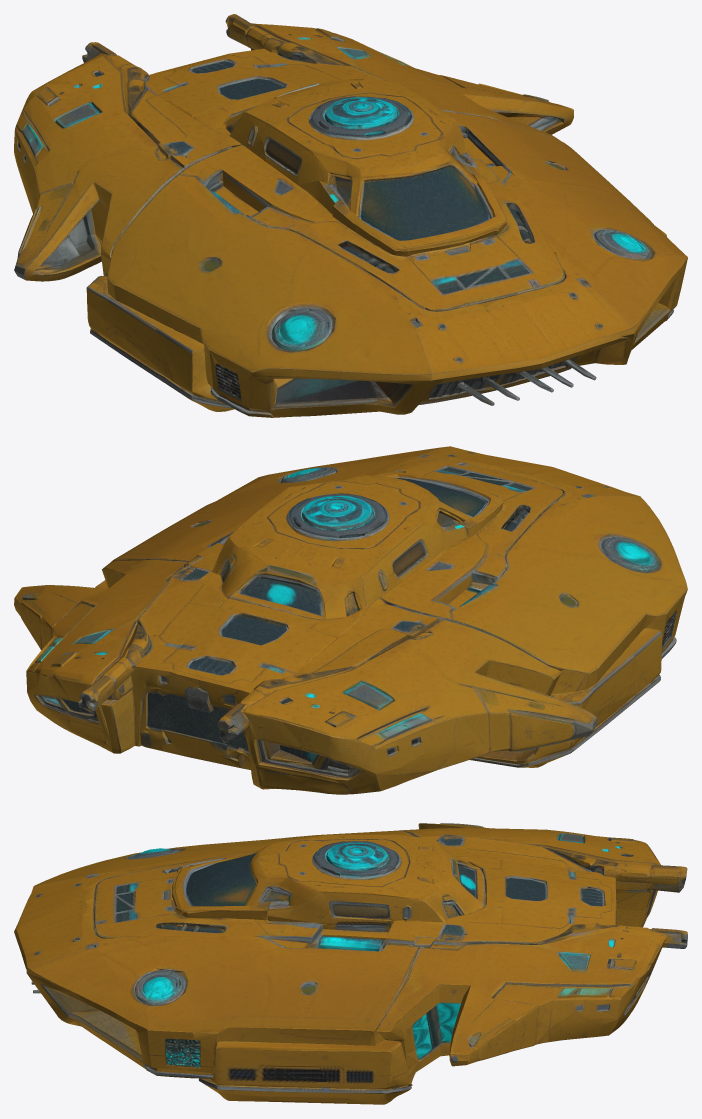
Rendered from relativistic_reinforced_hull.glb.
The picture shows the model from 3 angles, top to bottom: view 1: azimuth 30°, elevation 25°; view 2: azimuth 150°, elevation 25°; view 3: azimuth 270°, elevation 25°; orthographic projection. The views are drawn at different scales.
Visible parts, largest first — view 1: Mesh_0; view 2: Mesh_0; view 3: Mesh_0.
Boxes of the visible parts, <box> form: Mesh_0: <box>14,14,687,417</box>; Mesh_0: <box>14,446,687,794</box>; Mesh_0: <box>14,823,687,1104</box>.
Size of the model in its own units: 1.59 by 0.5427 by 1.9.
Materials: 1 (1 with a texture image).
